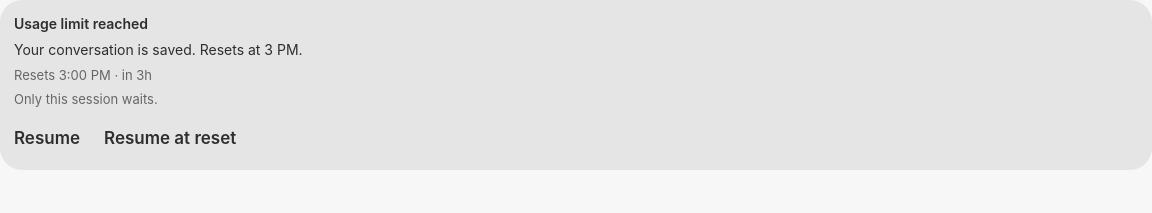
UsageLimitCard › shows the failure inline and lets the user try again
Step 1. Click the button "Resume" → [47, 138], box left=14, top=120, right=80, bottom=156
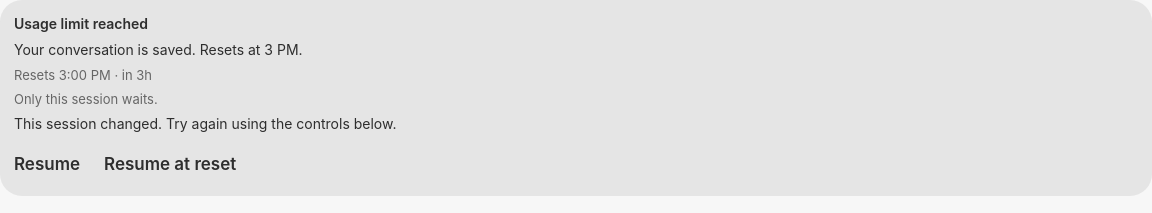
Check: the message reads "This session changed. Try again using the controls below.", box left=14, top=115, right=396, bottom=132
Step 2. Click the button "Resume" → [47, 164], box left=14, top=146, right=80, bottom=182
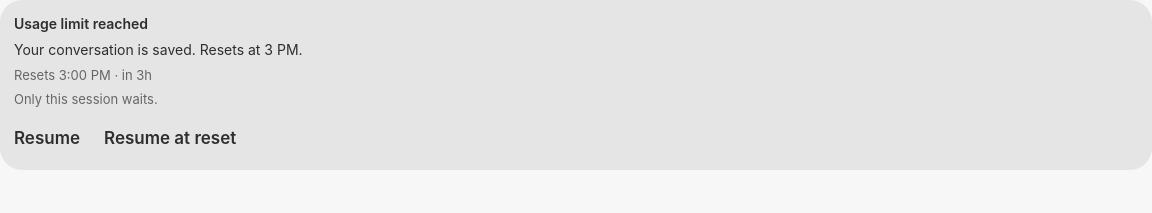
Check: the message "This session changed. Try again using the controls below." is gone
